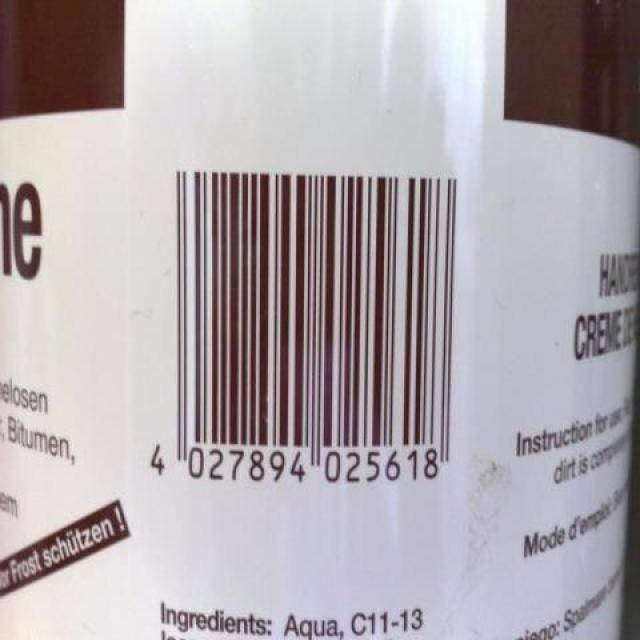Barcode: (136, 135, 477, 517)
